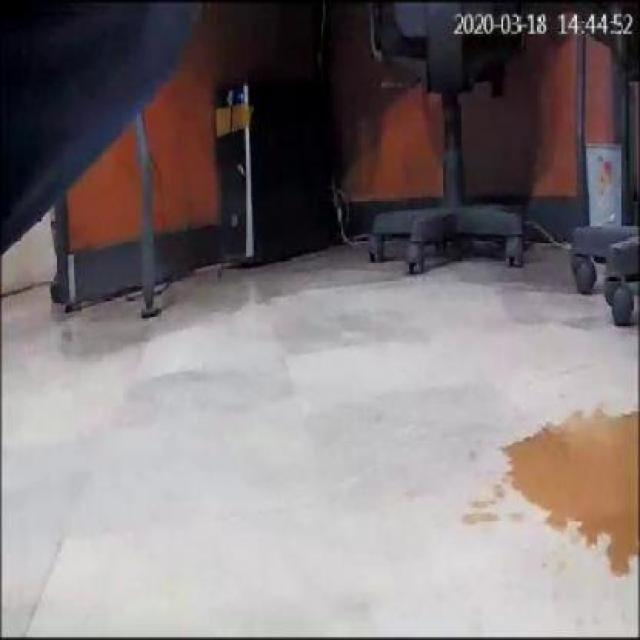spillage: (503, 414, 638, 573)
